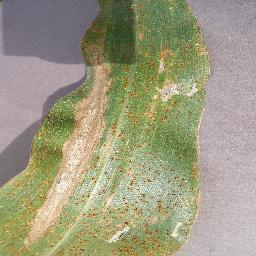Corn_Blight: (1, 0, 116, 254), (118, 0, 215, 256)
